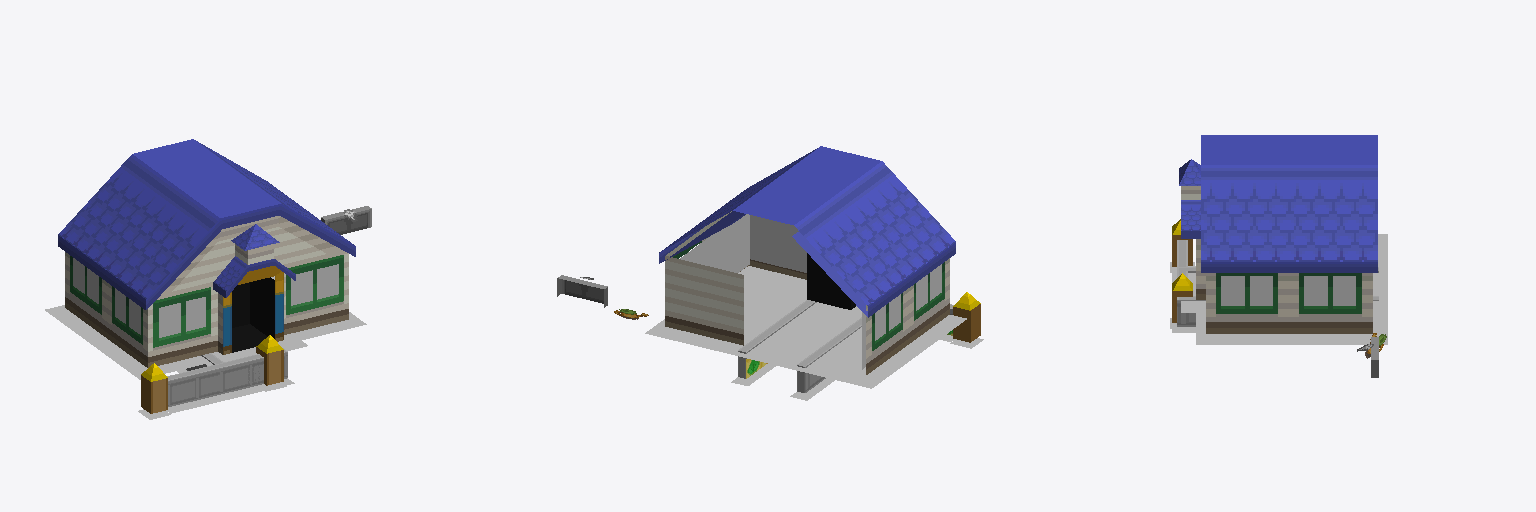
3 renders of one model, left to right at view 1: azimuth 30°, elevation 25°; view 2: azimuth 150°, elevation 25°; view 3: azimuth 270°, elevation 25°, orthographic.
Visible parts, largest first — view 1: polygon14, polygon12, polygon18, polygon19, polygon13, polygon6, polygon5, polygon17, polygon8, polygon9, polygon0, polygon11 (+5 smaller); view 2: polygon14, polygon18, polygon12, polygon8, polygon16, polygon6, polygon17, polygon19, polygon20, polygon1, polygon4; view 3: polygon14, polygon12, polygon18, polygon16, polygon6, polygon11, polygon1.
Part boxes in pixels (x1,y1,x2,y2): polygon14: (58, 139, 355, 309); polygon12: (65, 216, 348, 367); polygon18: (45, 276, 366, 379); polygon19: (232, 277, 274, 352); polygon13: (162, 216, 340, 354); polygon6: (141, 348, 287, 413); polygon5: (168, 352, 287, 406); polygon17: (73, 258, 140, 334); polygon8: (291, 264, 338, 305); polygon9: (159, 297, 205, 337); polygon0: (186, 355, 263, 394); polygon11: (213, 256, 295, 297); polygon14: (659, 146, 955, 317); polygon18: (645, 266, 966, 388); polygon12: (665, 211, 949, 374); polygon8: (750, 215, 806, 272); polygon16: (680, 214, 749, 272); polygon6: (738, 292, 980, 378); polygon17: (862, 264, 941, 369); polygon19: (807, 253, 855, 309); polygon20: (557, 275, 607, 307); polygon1: (797, 317, 861, 392); polygon4: (731, 334, 983, 385); polygon14: (1201, 135, 1377, 272); polygon12: (1196, 239, 1372, 333); polygon18: (1181, 234, 1387, 344); polygon16: (1221, 276, 1355, 305); polygon6: (1172, 219, 1378, 299); polygon11: (1181, 200, 1200, 238); polygon1: (1172, 267, 1378, 322).
Bounding box in the file's own units: 18.45 × 9.25 × 10.91.
Materials: 10 (8 with a texture image).